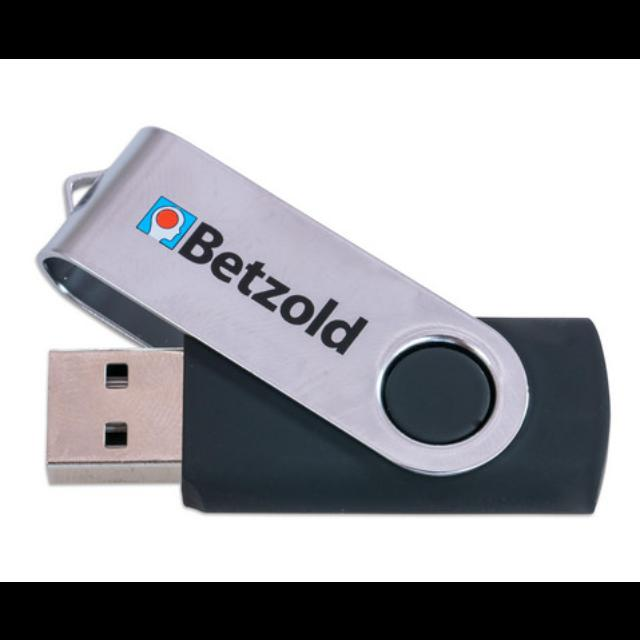USB-Flash-Drive: (34, 140, 620, 530)
